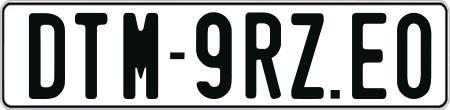0: (396, 11, 434, 99)
9: (195, 11, 233, 98)
D: (27, 13, 64, 100)
E: (350, 13, 384, 104)
M: (123, 11, 159, 99)
R: (246, 9, 282, 99)
T: (73, 13, 105, 102)
Z: (289, 13, 324, 100)
